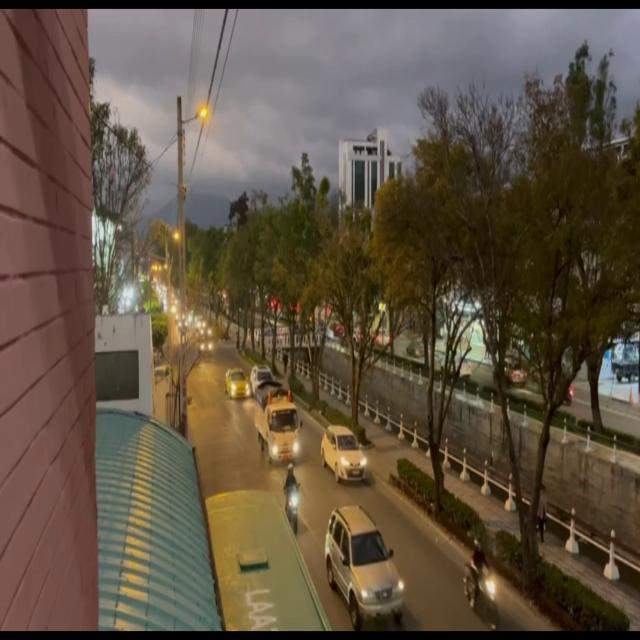MOTORCYCLE: (464, 564, 502, 630), (284, 486, 300, 535)
SED: (325, 430, 366, 482), (228, 371, 250, 398)
SUV: (330, 512, 402, 626)
TRUCK: (267, 399, 301, 464)
